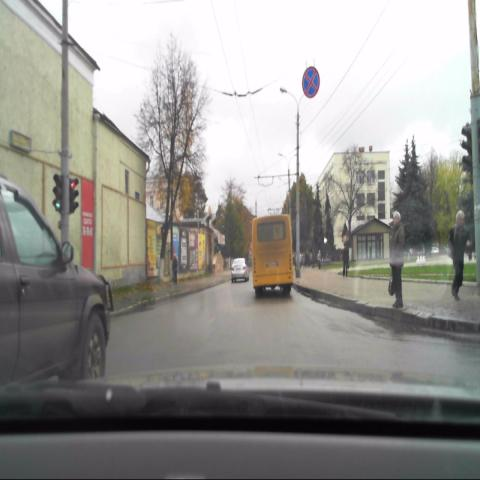3_27: (302, 64, 320, 99)
